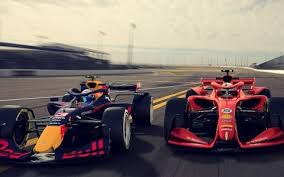FormulaOneCar: (1, 72, 154, 174), (161, 67, 284, 155)
